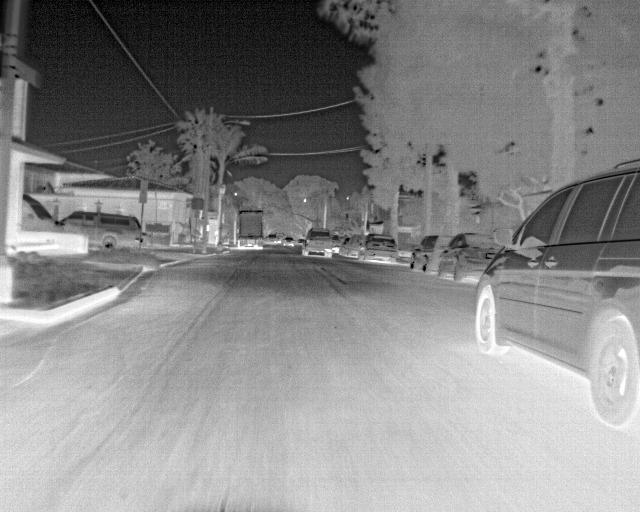bicycle: (473, 162, 639, 428), (437, 233, 505, 281), (59, 211, 144, 248), (22, 192, 85, 235), (408, 232, 453, 276), (357, 234, 396, 264), (301, 226, 332, 256), (347, 233, 368, 259), (396, 242, 420, 263), (337, 236, 353, 257), (264, 230, 280, 244), (282, 235, 296, 247)
